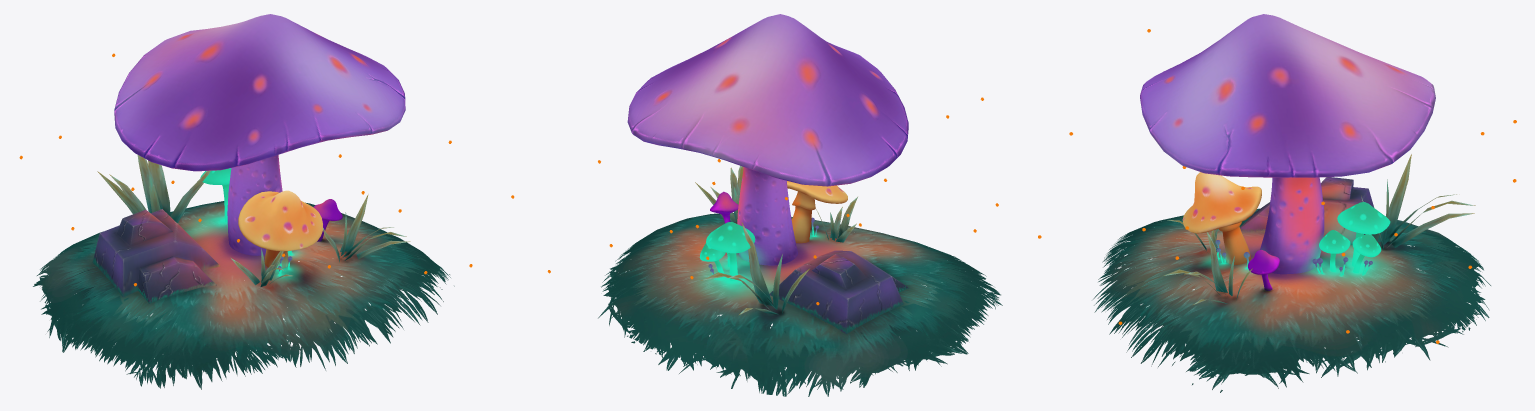
The model's file is hongoLuciernagas.fbx.
3 views of the same model, side by side, from view 1: azimuth 30°, elevation 25°; view 2: azimuth 150°, elevation 25°; view 3: azimuth 270°, elevation 25° (orthographic). The views are drawn at different scales.
Visible parts, largest first — view 1: Plane_ground_0, Circle_mushroms_0, Cube_001_mushroms_0, Circle_001_mushroms_0, Plane_002_mushroms_0, Cube_mushroms_0, Plane_003_mushroms_0, Plane_001_mushroms_0, Circle_002_mushroms_0, Circle_005_mushroms_0; view 2: Plane_ground_0, Circle_mushroms_0, Cube_001_mushroms_0, Circle_001_mushroms_0, Plane_002_mushroms_0, Circle_002_mushroms_0, Cube_mushroms_0, Plane_001_mushroms_0, Plane_003_mushroms_0, Circle_005_mushroms_0; view 3: Plane_ground_0, Circle_mushroms_0, Circle_001_mushroms_0, Plane_002_mushroms_0, Cube_001_mushroms_0, Circle_002_mushroms_0, Plane_003_mushroms_0, Circle_005_mushroms_0, Cube_mushroms_0, Circle_004_mushroms_0, Circle_006_mushroms_0.
Part boxes in pixels (x1,y1,x2,y2): Plane_ground_0: (33, 201, 454, 389); Circle_mushroms_0: (114, 14, 405, 255); Cube_001_mushroms_0: (92, 209, 220, 303); Circle_001_mushroms_0: (238, 190, 322, 269); Plane_002_mushroms_0: (97, 155, 210, 223); Cube_mushroms_0: (116, 209, 172, 245); Plane_003_mushroms_0: (323, 194, 410, 262); Plane_001_mushroms_0: (230, 248, 292, 286); Circle_002_mushroms_0: (200, 168, 231, 222); Circle_005_mushroms_0: (313, 199, 342, 241); Plane_ground_0: (598, 213, 1002, 396); Circle_mushroms_0: (627, 14, 908, 265); Cube_001_mushroms_0: (769, 250, 908, 334); Circle_001_mushroms_0: (787, 181, 847, 243); Plane_002_mushroms_0: (701, 222, 809, 314); Circle_002_mushroms_0: (706, 222, 755, 280); Cube_mushroms_0: (812, 254, 865, 288); Plane_001_mushroms_0: (816, 197, 857, 242); Plane_003_mushroms_0: (695, 165, 743, 223); Circle_005_mushroms_0: (710, 191, 738, 223); Plane_ground_0: (1093, 208, 1490, 392); Circle_mushroms_0: (1140, 14, 1435, 274); Circle_001_mushroms_0: (1182, 172, 1261, 264); Plane_002_mushroms_0: (1361, 154, 1475, 249); Cube_001_mushroms_0: (1240, 187, 1374, 245); Circle_002_mushroms_0: (1337, 202, 1390, 266); Plane_003_mushroms_0: (1163, 232, 1252, 304); Circle_005_mushroms_0: (1248, 250, 1279, 290); Cube_mushroms_0: (1320, 177, 1353, 200); Circle_004_mushroms_0: (1319, 230, 1350, 271); Circle_006_mushroms_0: (1352, 234, 1381, 272).
Bounding box in the file's own units: 437 × 312 × 449.
2 materials, 1 textured.
